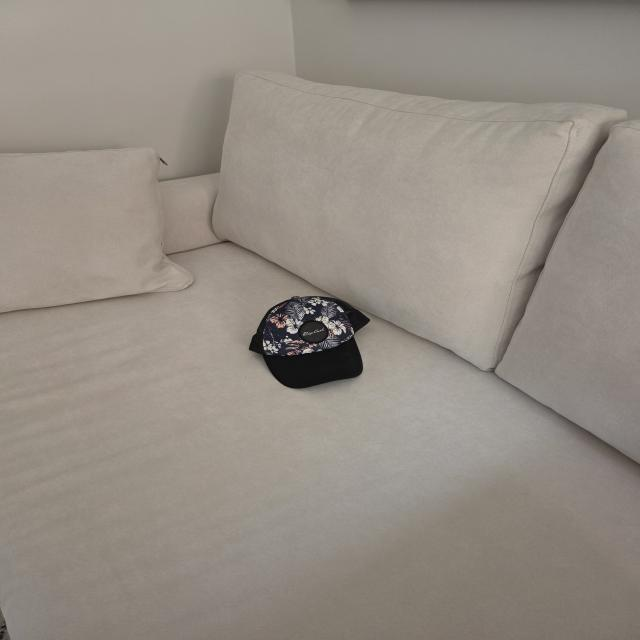Gorra: (243, 294, 375, 390)
